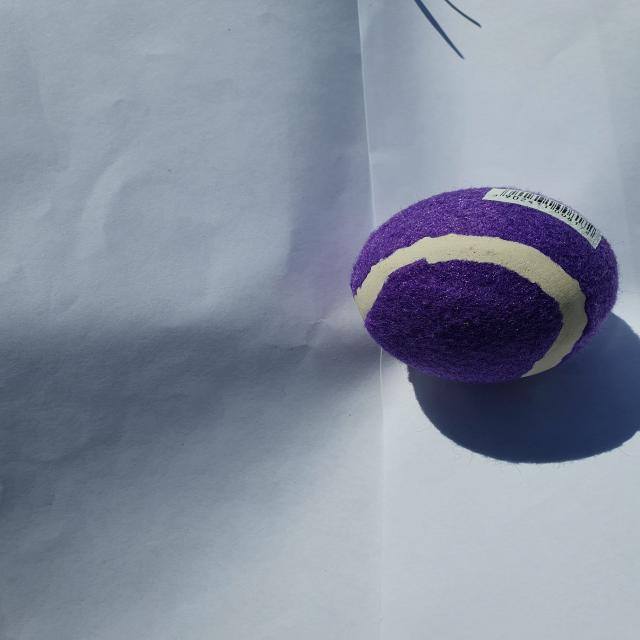purple: (351, 186, 618, 384)
